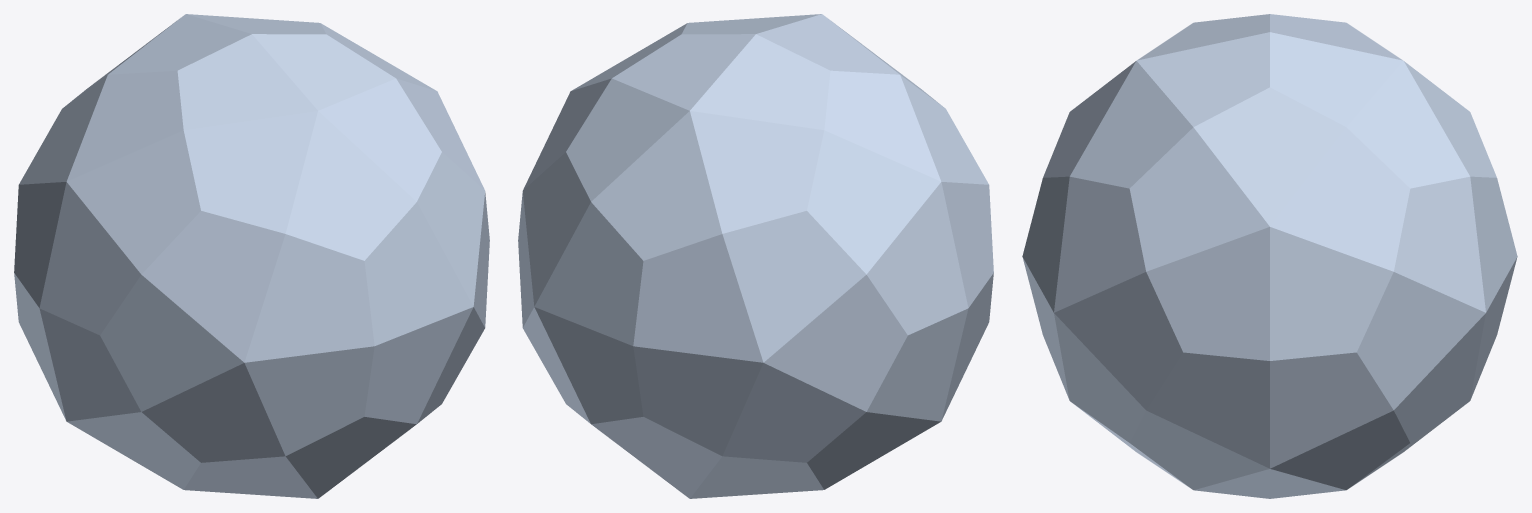
File: polyform2.glb
The picture shows the model from 3 angles, left to right: view 1: azimuth 30°, elevation 25°; view 2: azimuth 150°, elevation 25°; view 3: azimuth 270°, elevation 25°; orthographic projection.
Bounding box in the file's own units: 4.47 × 4.47 × 4.47.
